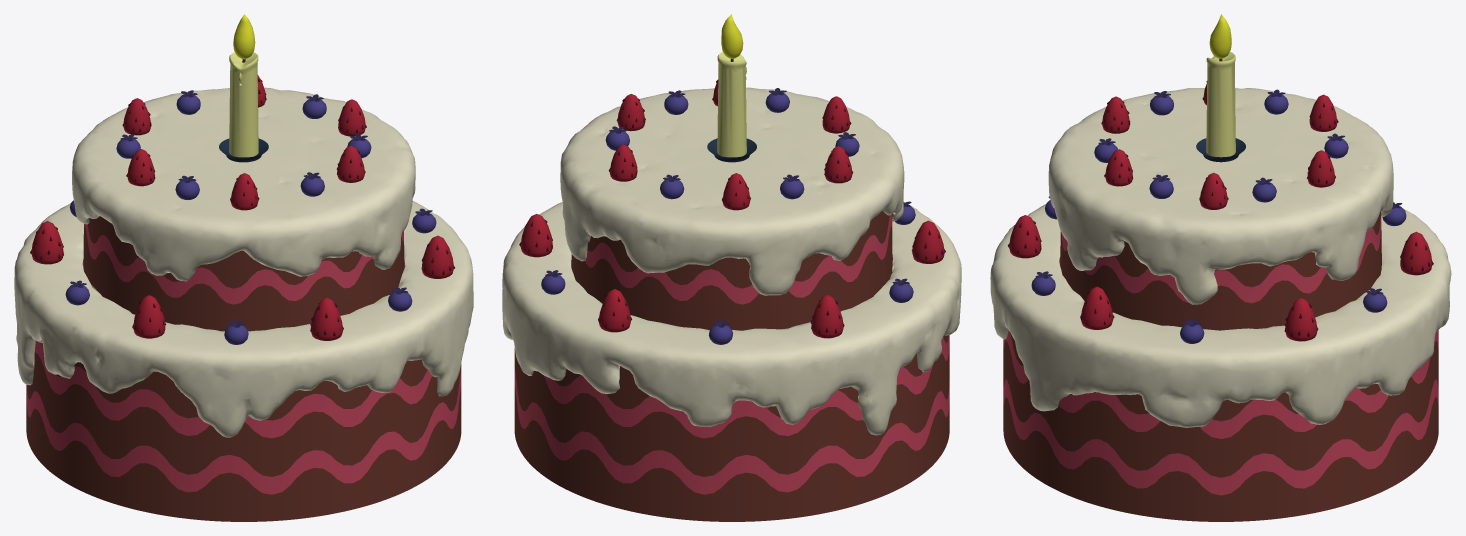
File: birthday_cake.glb
3 views of the same model, side by side, from view 1: azimuth 30°, elevation 25°; view 2: azimuth 150°, elevation 25°; view 3: azimuth 270°, elevation 25° (orthographic).
Visible parts, largest first — view 1: Object_4; view 2: Object_4; view 3: Object_4.
Boxes of the visible parts, box(x1,y1,x2,y2) form: Object_4: box(14, 14, 473, 521); Object_4: box(502, 14, 961, 521); Object_4: box(990, 14, 1451, 521).
Bounding box in the file's own units: 0.3079 × 0.3065 × 0.3077.
